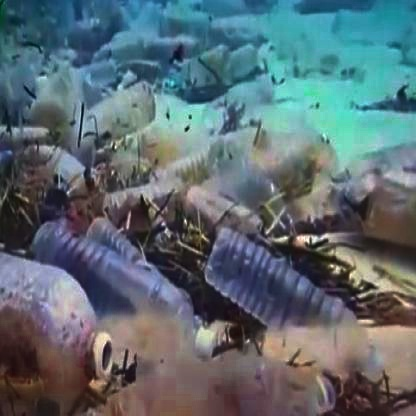pbottle: (201, 202, 389, 387), (26, 213, 218, 368), (1, 215, 122, 394), (146, 329, 340, 416), (125, 148, 300, 214)
